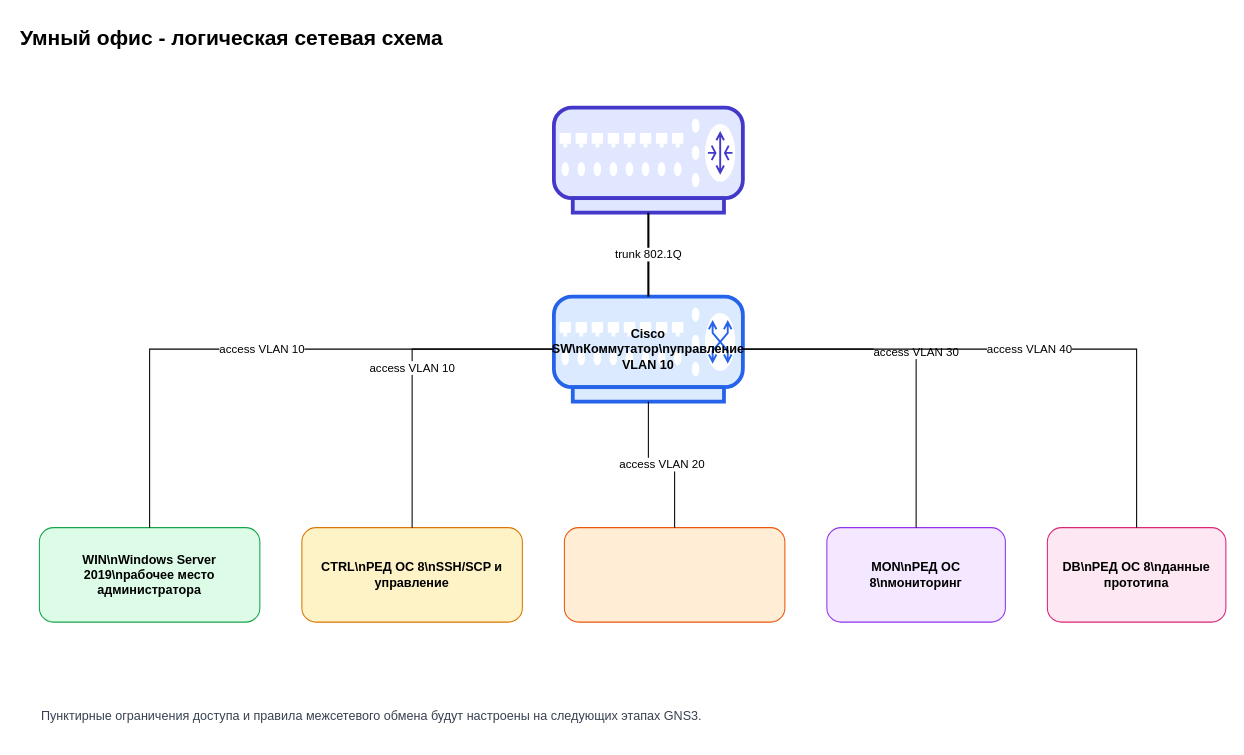
The diagram is 1244 pixels wide and 755 high, and some of its shapes have lost their labels. The centre of each missing label's shape, as x and y in pixels:
"Cisco RTR\nМаршрутизатор\nVLAN 10/20/30/40" goes at [648,160].
"IOT\nРЕД ОС 8\nNode-RED: TEMP, HUM, FAN" goes at [674,574].
